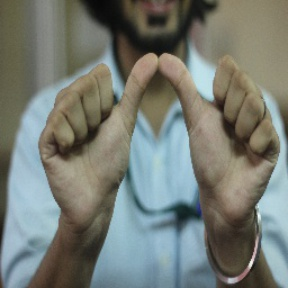A: (63, 49, 261, 190)
